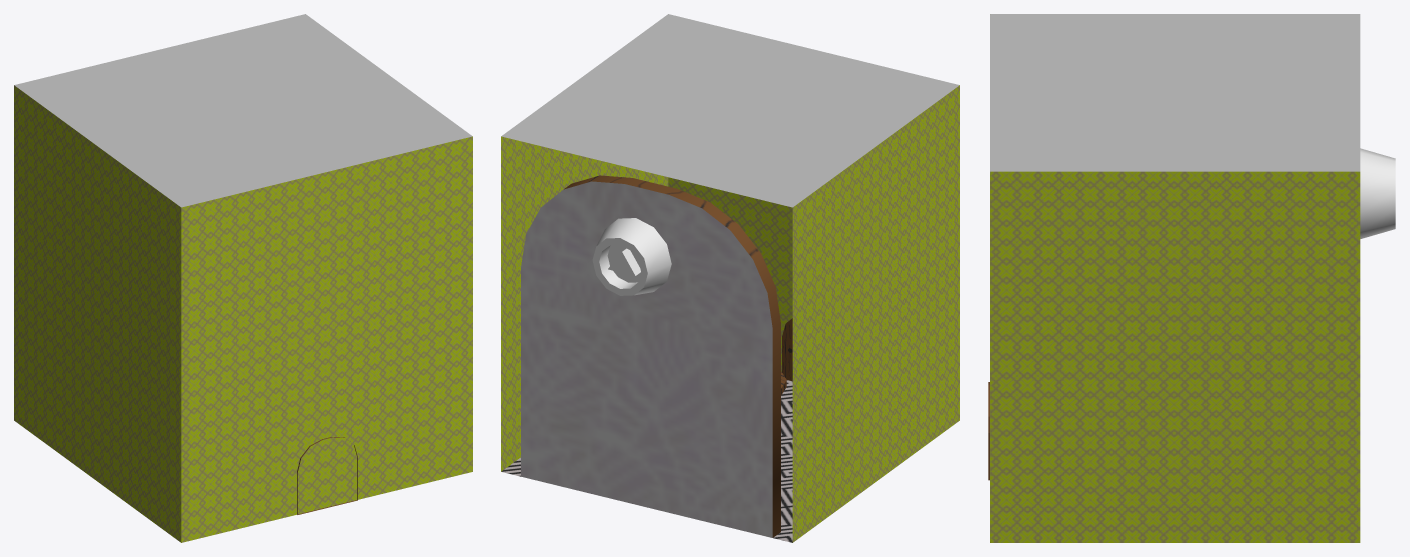
File: bonus.fbx
The picture shows the model from 3 angles, left to right: view 1: azimuth 30°, elevation 25°; view 2: azimuth 150°, elevation 25°; view 3: azimuth 270°, elevation 25°; orthographic projection. The views are drawn at different scales.
Visible parts, largest first — view 1: Vagon_body_inner_SkewCorridor_01.002; view 2: Vagon_body_inner_SkewCorridor_01.002, Vagon_body_inner_SkewCorridor_01.004; view 3: Vagon_body_inner_SkewCorridor_01.002, Vagon_body_inner_SkewCorridor_01.004.
Boxes of the visible parts, x1=… form: Vagon_body_inner_SkewCorridor_01.002: x1=14, y1=14, x2=472, y2=542; Vagon_body_inner_SkewCorridor_01.002: x1=501, y1=14, x2=959, y2=542; Vagon_body_inner_SkewCorridor_01.004: x1=521, y1=175, x2=780, y2=537; Vagon_body_inner_SkewCorridor_01.002: x1=988, y1=14, x2=1360, y2=542; Vagon_body_inner_SkewCorridor_01.004: x1=1360, y1=148, x2=1395, y2=238.
Bounding box in the file's own units: 0.156 × 0.1719 × 0.1705.
